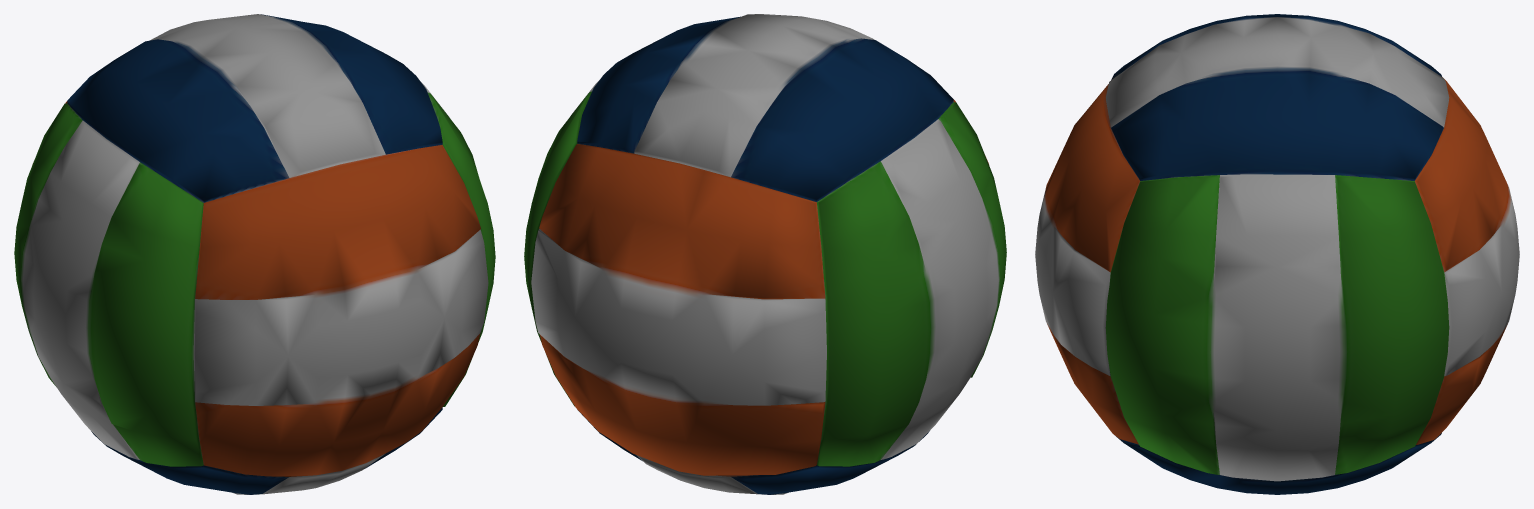
Rendered from hw_pop_volleyball.glb.
The picture shows the model from 3 angles, left to right: view 1: azimuth 30°, elevation 25°; view 2: azimuth 150°, elevation 25°; view 3: azimuth 270°, elevation 25°; orthographic projection.
Parts seen in each view (by area): view 1: Object_2; view 2: Object_2; view 3: Object_2.
Part boxes in pixels (box(x1,y1,x2,y2)): Object_2: box(14, 14, 495, 494); Object_2: box(524, 14, 1006, 494); Object_2: box(1035, 14, 1519, 494).
Size of the model in its own units: 1.88 by 1.88 by 1.89.
1 material, 1 textured.
